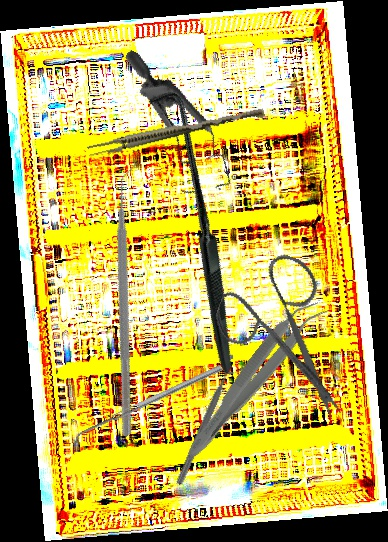Chopper: (3, 161, 261, 438)
Fixation Ring: (171, 351, 248, 491)
Hook Surgical: (50, 84, 337, 375)
Iris Scissors: (195, 239, 386, 421)
Spatula Surgical: (68, 364, 226, 447)
Speculum: (82, 49, 265, 210)
Tissue Forceps: (180, 290, 329, 469), (86, 101, 266, 161)
